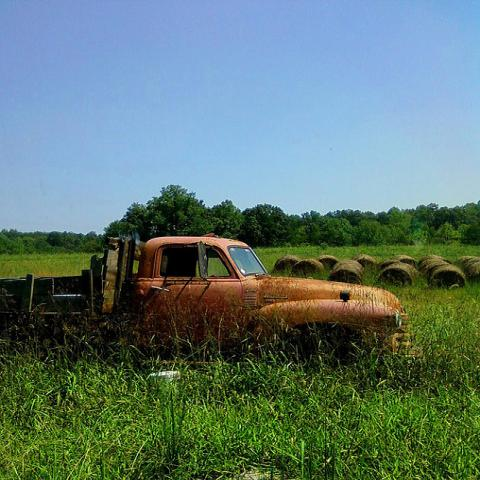truck: (0, 234, 405, 368)
